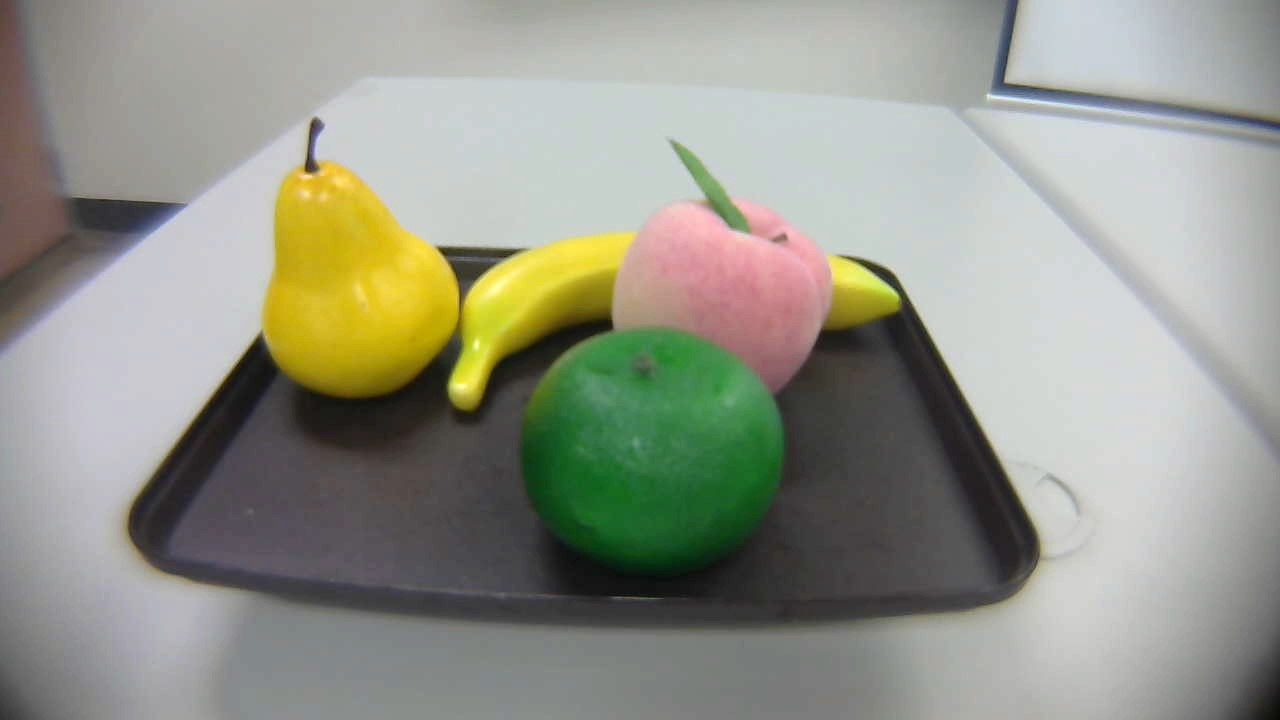banana: (415, 222, 927, 412)
green orange: (529, 317, 783, 566)
peach: (617, 134, 830, 393)
yellow pear: (256, 110, 462, 400)
